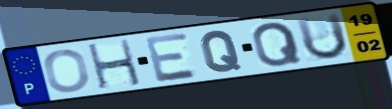E: (142, 30, 201, 84)
H: (85, 37, 144, 91)
O: (42, 48, 92, 94)
Q: (250, 20, 305, 69), (198, 29, 244, 74)
U: (293, 11, 351, 62)
